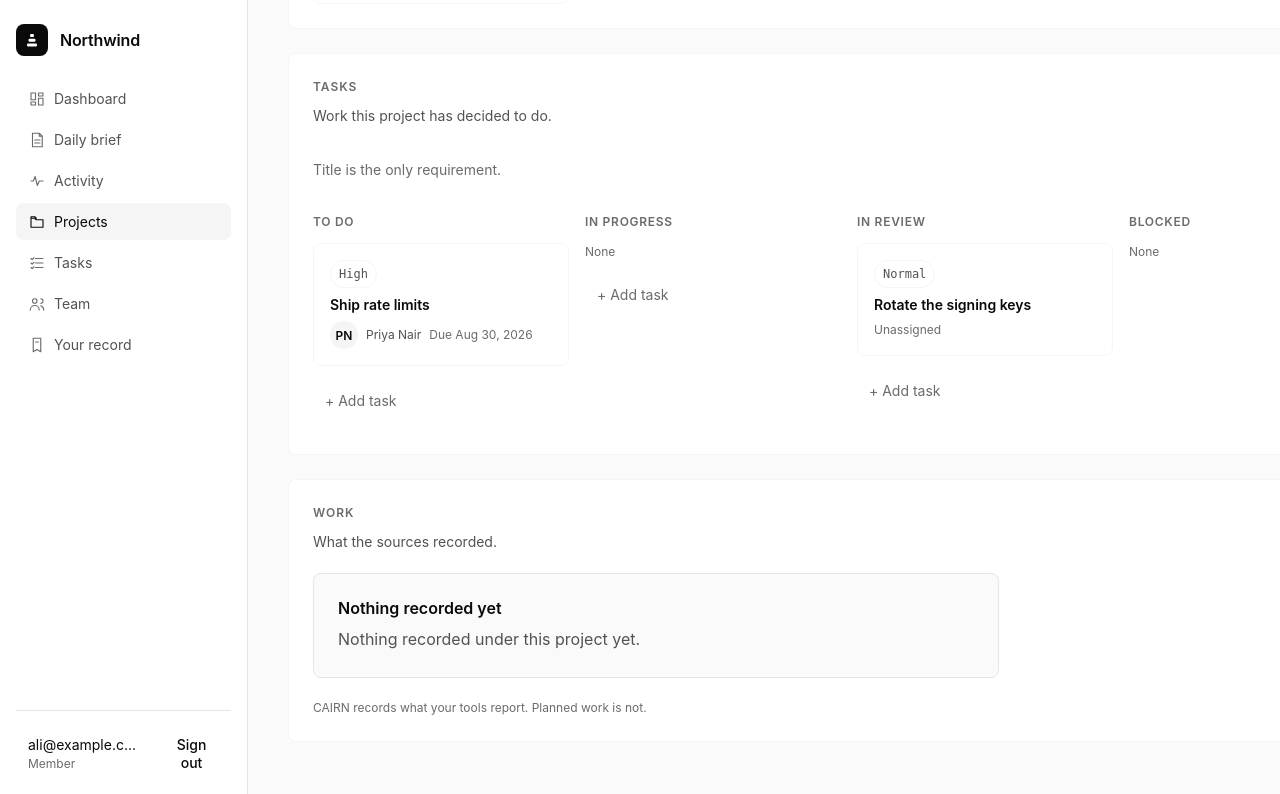
a project's task board › the quick Add task composer › keeps the typed title and says why when the create is refused
(page scrolled)
Expected: the link "Ship rate limits" is shown, [330, 296, 430, 313]
Click the button with aria-label "Add task to To do".
click(441, 400)  # box [313, 378, 569, 422]
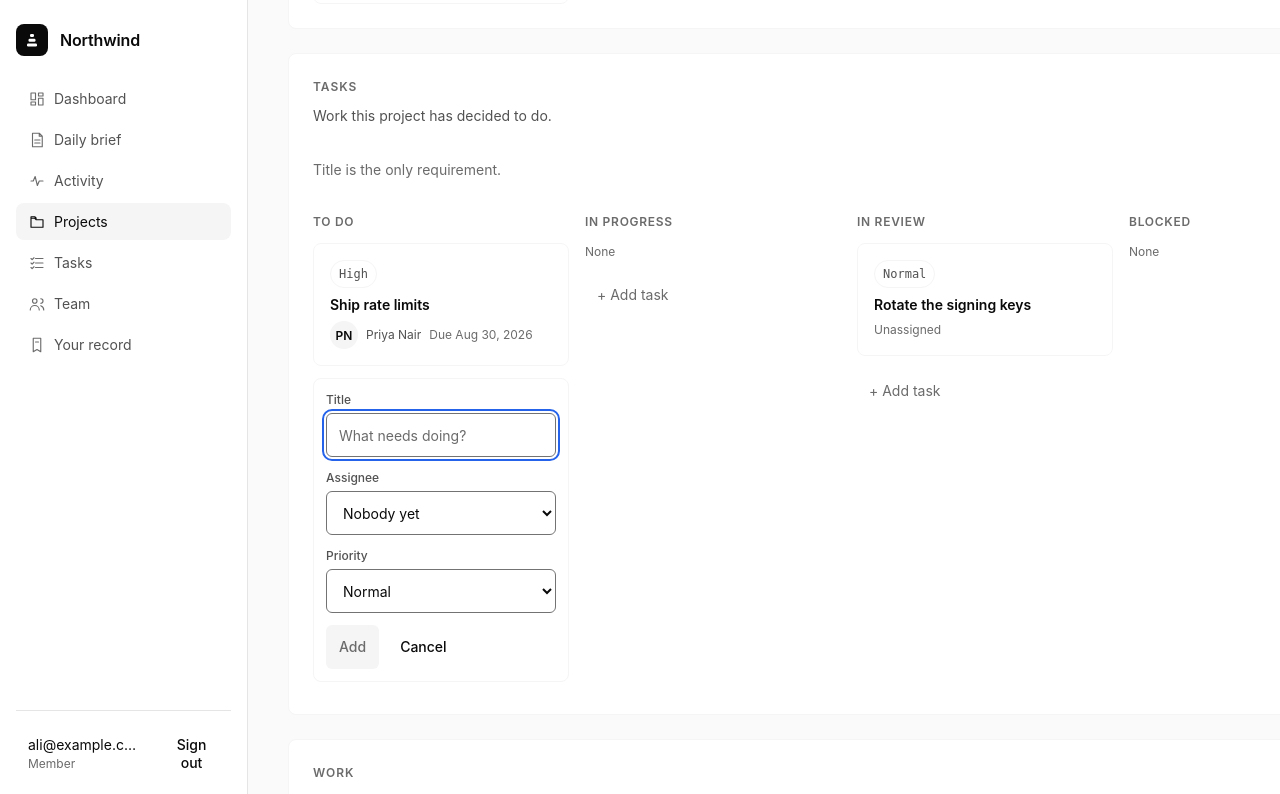
Type "A task the API refuses" into the field labelled "Title".
click(441, 435); type("A task the API refuses")  # box [326, 413, 556, 457]
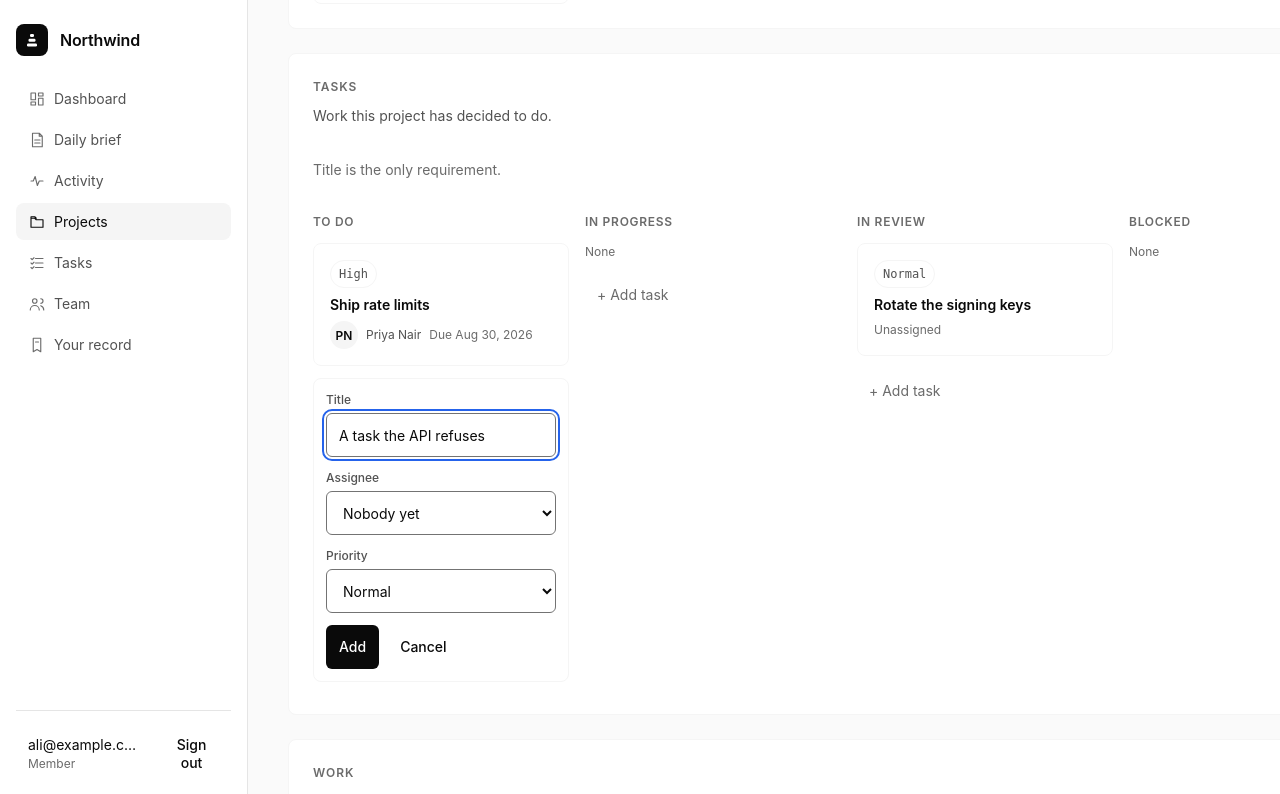
Click the button "Add".
click(353, 647)  # box [326, 625, 379, 669]
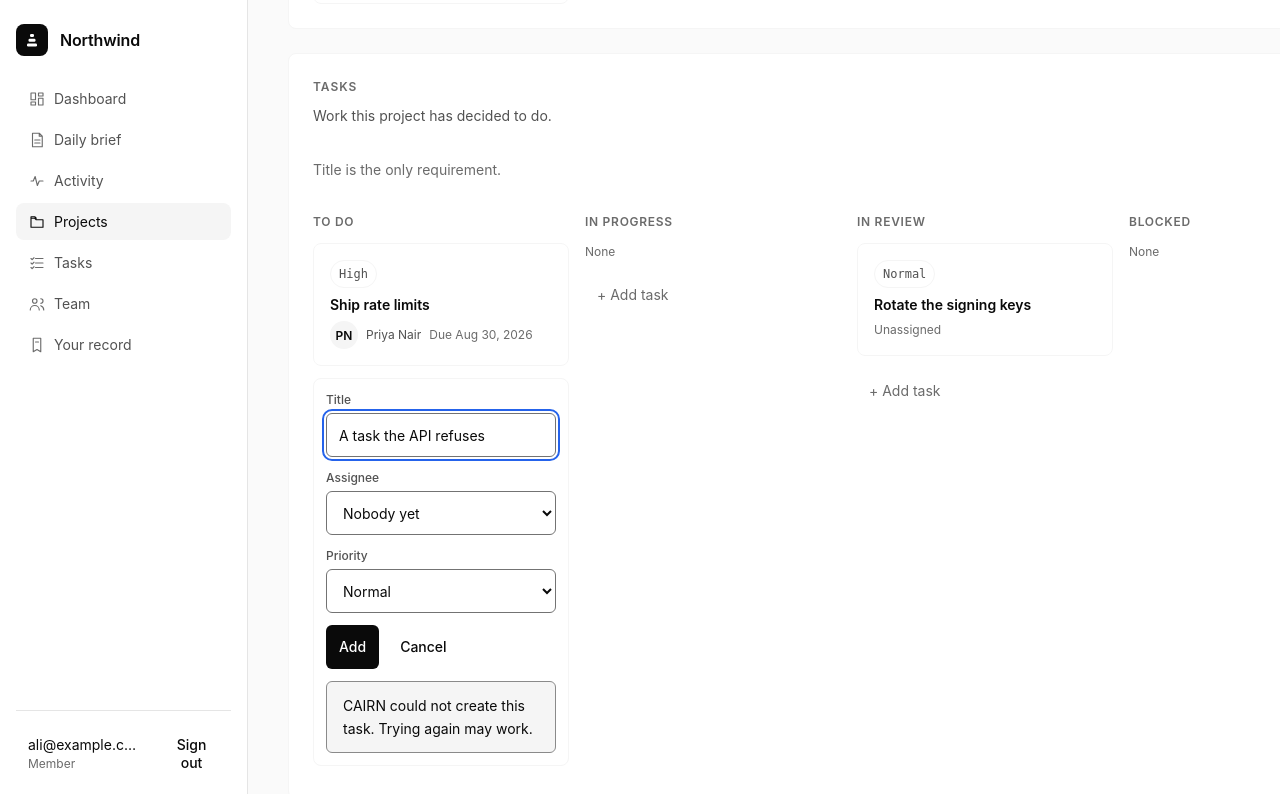
Expected: the message "CAIRN could not create this task. Trying again may work." is shown, [326, 681, 556, 753]
